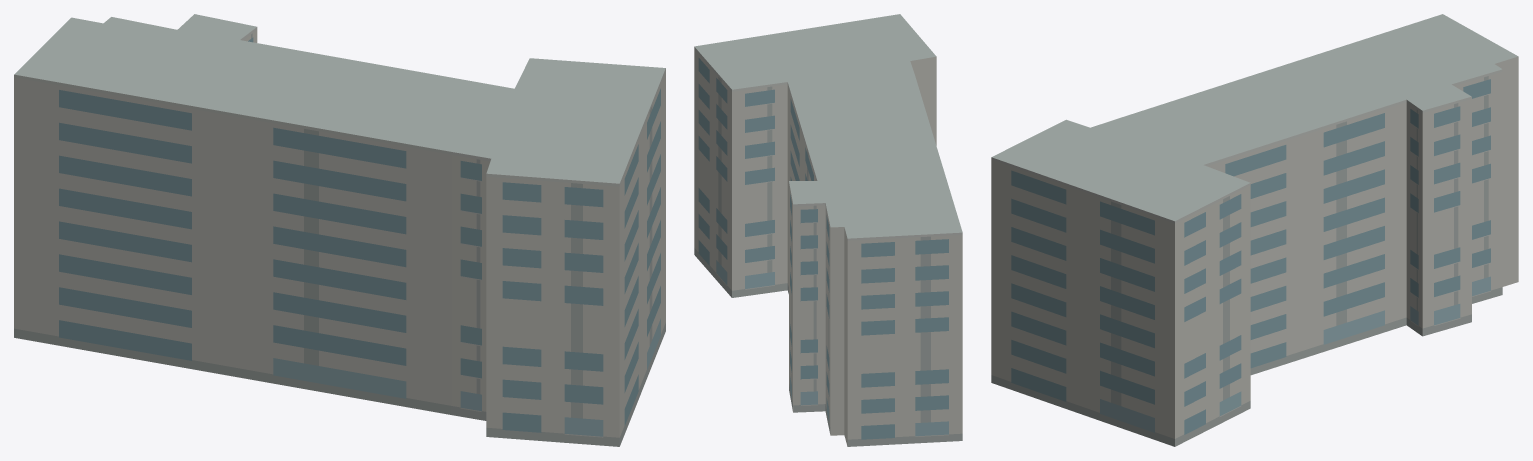
The model's file is survey-upis-33035125.glb.
The picture shows the model from 3 angles, left to right: view 1: azimuth 30°, elevation 25°; view 2: azimuth 150°, elevation 25°; view 3: azimuth 270°, elevation 25°; orthographic projection. The views are drawn at different scales.
Visible parts, largest first — view 1: survey-upis-33035125.tmp; view 2: survey-upis-33035125.tmp; view 3: survey-upis-33035125.tmp.
Part boxes in pixels (left/top/right/bottom): survey-upis-33035125.tmp: left=14, top=14, right=665, bottom=446; survey-upis-33035125.tmp: left=694, top=14, right=962, bottom=446; survey-upis-33035125.tmp: left=991, top=14, right=1518, bottom=446.
Bounding box in the file's own units: 42.96 × 21.8 × 46.17.
